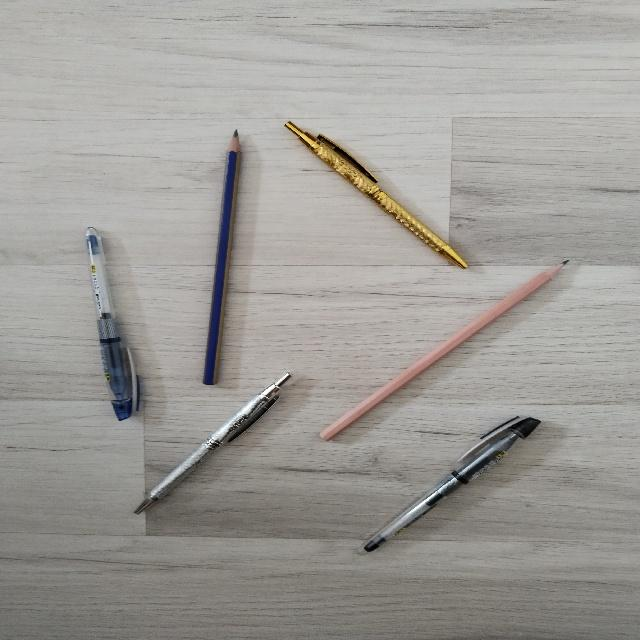pen: (362, 417, 539, 551), (86, 227, 138, 419)
pencil: (320, 261, 566, 439), (203, 130, 239, 384)
signature pen: (285, 121, 466, 268), (135, 373, 290, 513)
